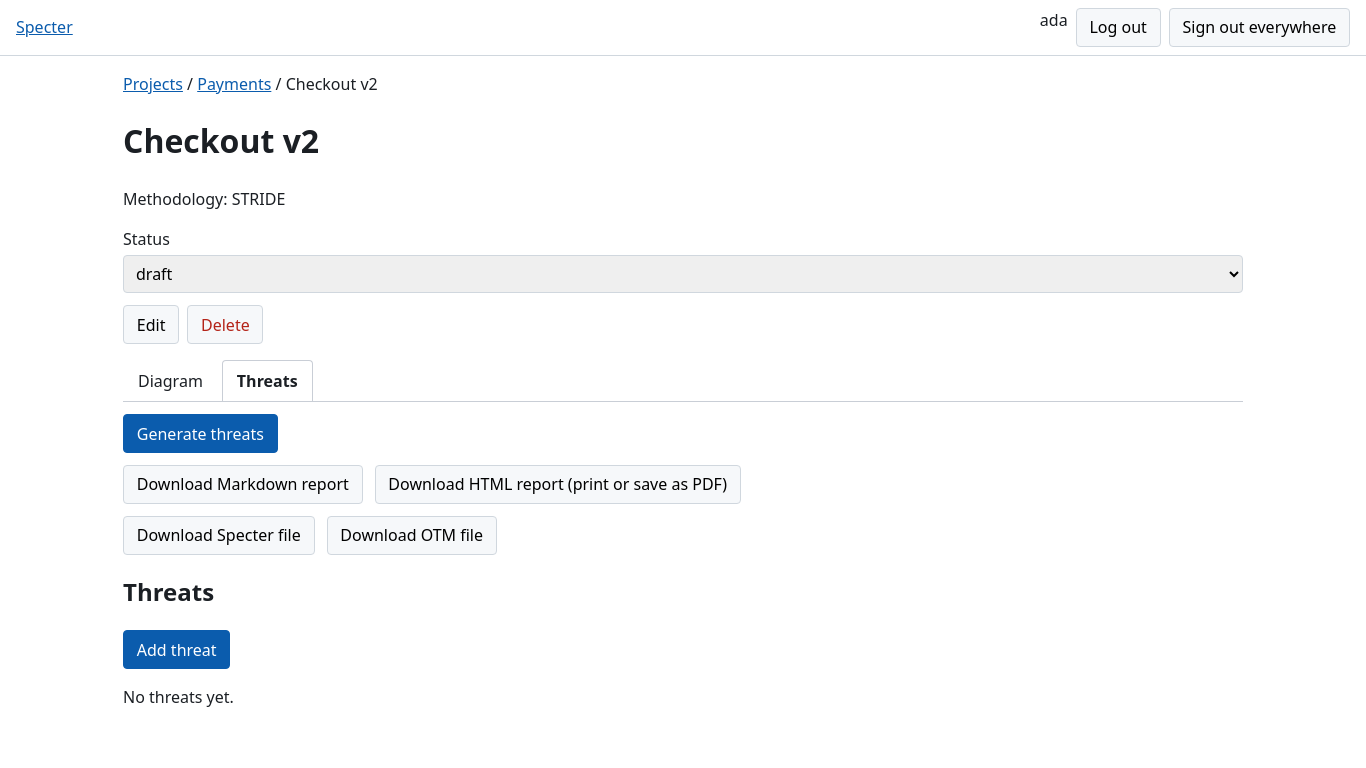
Test: ThreatModelPage header › says "This item no longer exists." and refetches when a write finds it gone
Select "approved" in the dropdown labelled "Status" at x=683, y=274, box x1=123 y1=255 x2=1243 y2=294
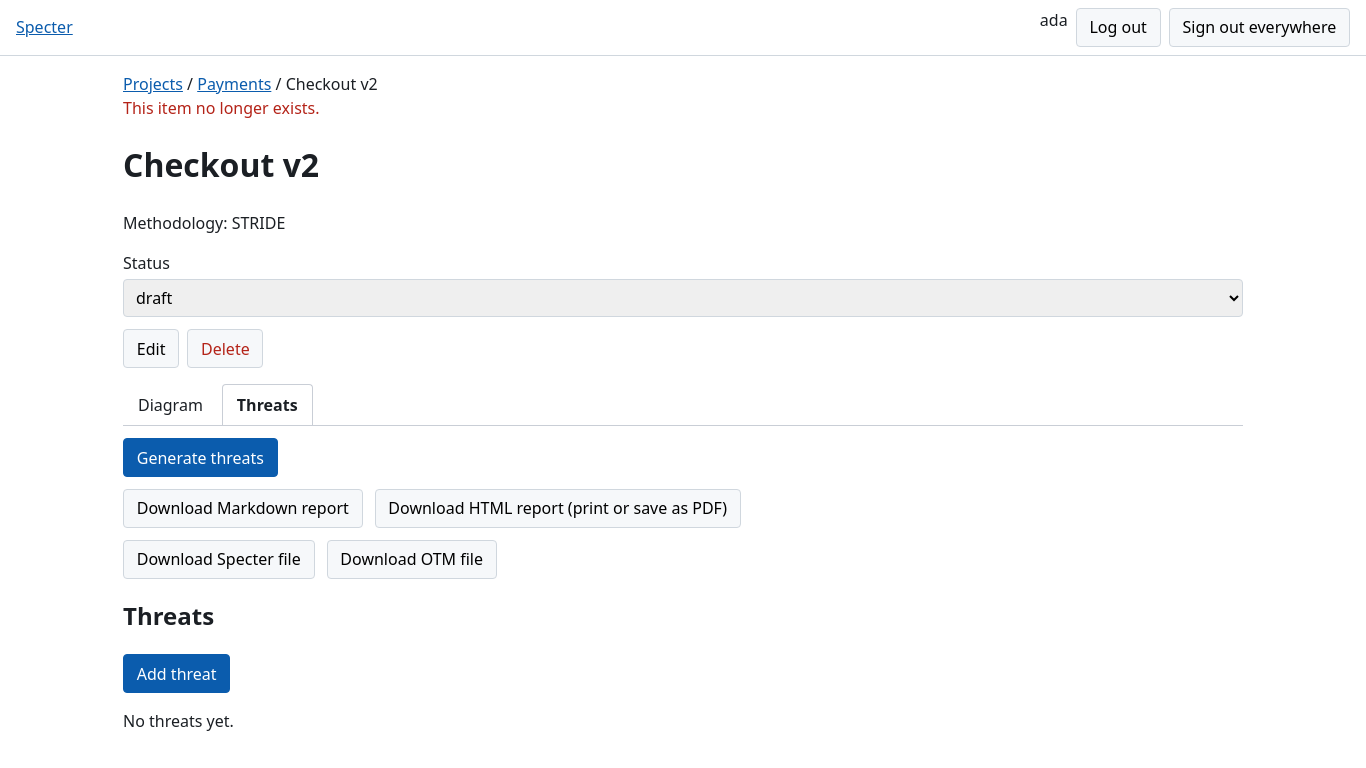
Check: the text "This item no longer exists." is shown, box x1=123 y1=97 x2=320 y2=119
